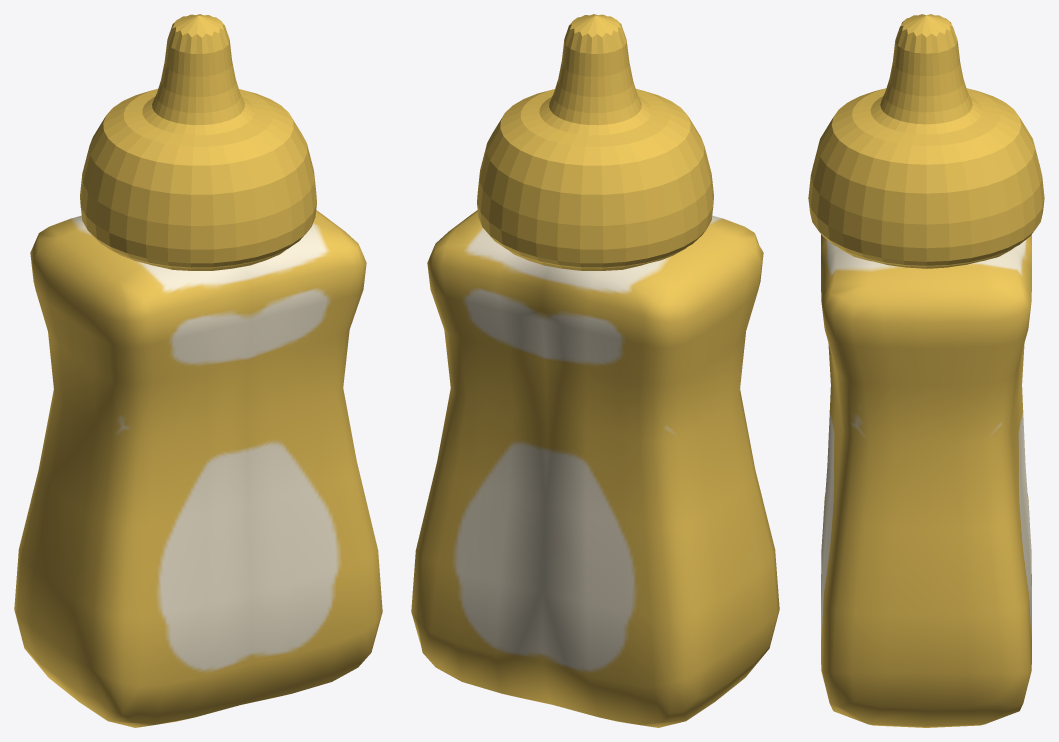
File: mostard_002.glb
The picture shows the model from 3 angles, left to right: view 1: azimuth 30°, elevation 25°; view 2: azimuth 150°, elevation 25°; view 3: azimuth 270°, elevation 25°; orthographic projection.
Parts seen in each view (by area): view 1: mostard.002; view 2: mostard.002; view 3: mostard.002.
Part boxes in pixels (left/top/right/bottom): mostard.002: left=14, top=14, right=382, bottom=727; mostard.002: left=411, top=14, right=779, bottom=727; mostard.002: left=808, top=14, right=1044, bottom=727.
Size of the model in its own units: 0.0934 by 0.206 by 0.0655.
1 material, 1 textured.
